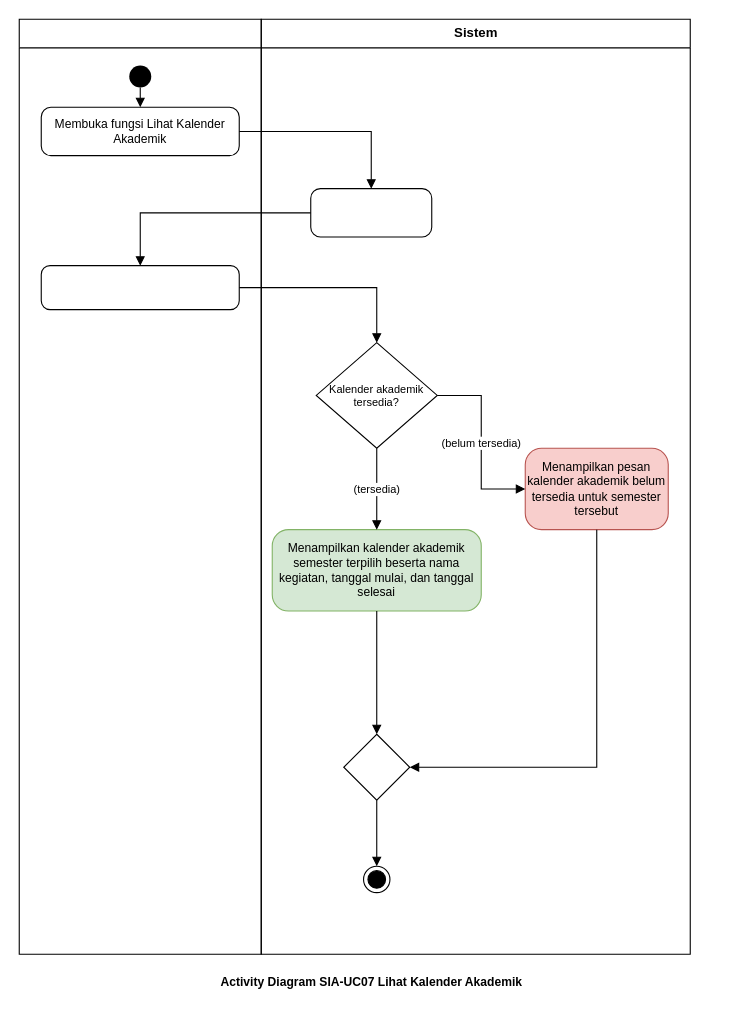
Image size: 743x1018. Some labels were removed from this diagram. The box of each missing label's shape, as (x1, y1, x2, y2) in pixels:
Civitas Akademika: (18, 18, 261, 954)
Memilih semester: (40, 265, 239, 310)
Menampilkan daftar semester: (310, 188, 432, 237)
